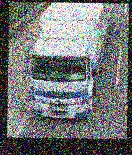truck: (23, 2, 115, 122)
